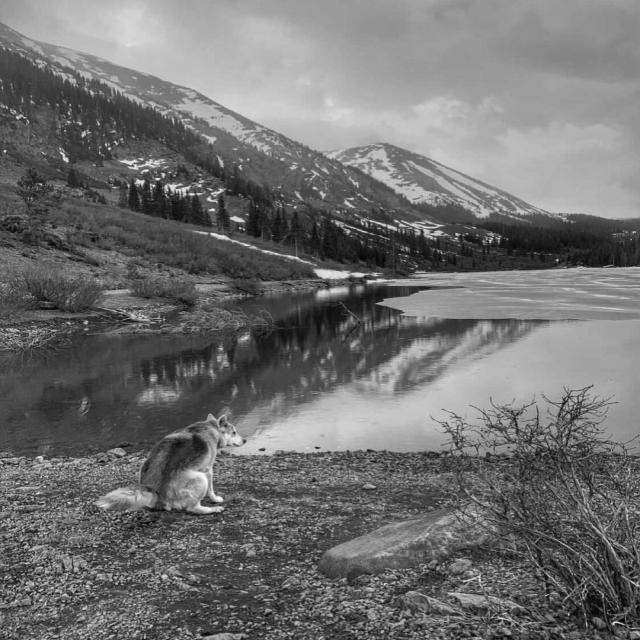squatting: (90, 402, 260, 525)
